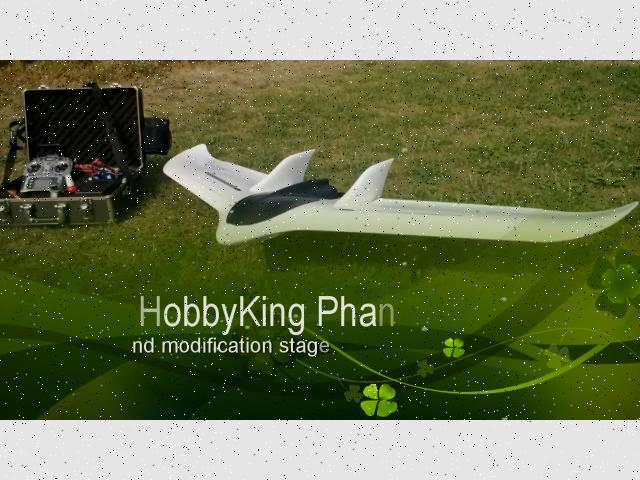Anti-Drone: (156, 118, 640, 298)
